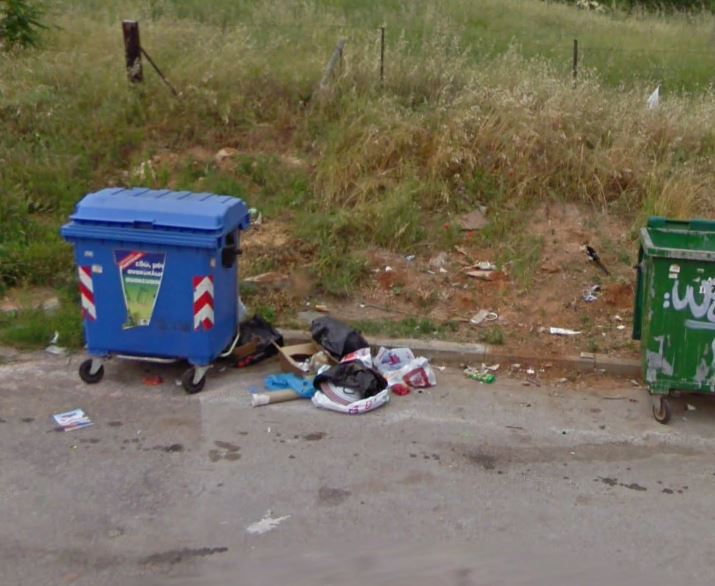trash: (199, 297, 449, 423), (384, 226, 625, 339), (42, 399, 99, 440), (454, 357, 502, 389)
